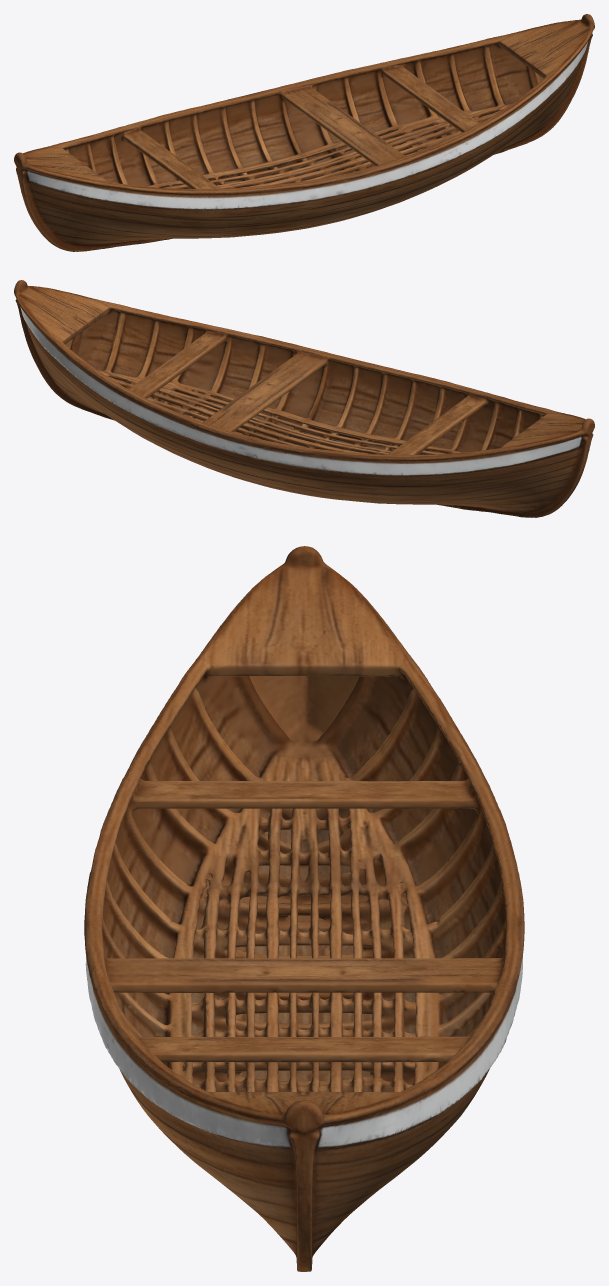
File: Meshy_AI_Wooden_Rowboat_1012054129_texture.obj
3 views of the same model, one above another, from view 1: azimuth 30°, elevation 25°; view 2: azimuth 150°, elevation 25°; view 3: azimuth 270°, elevation 25° (orthographic). The views are drawn at different scales.
Visible parts, largest first — view 1: Meshy_AI_Wooden_Rowboat_1012054129_texture; view 2: Meshy_AI_Wooden_Rowboat_1012054129_texture; view 3: Meshy_AI_Wooden_Rowboat_1012054129_texture.
Boxes of the visible parts, box(x1,y1,x2,y2) form: Meshy_AI_Wooden_Rowboat_1012054129_texture: box(14, 14, 594, 251); Meshy_AI_Wooden_Rowboat_1012054129_texture: box(14, 280, 594, 517); Meshy_AI_Wooden_Rowboat_1012054129_texture: box(84, 546, 524, 1271).
Bounding box in the file's own units: 1.9 × 0.4058 × 0.6315.
1 material, 1 textured.
